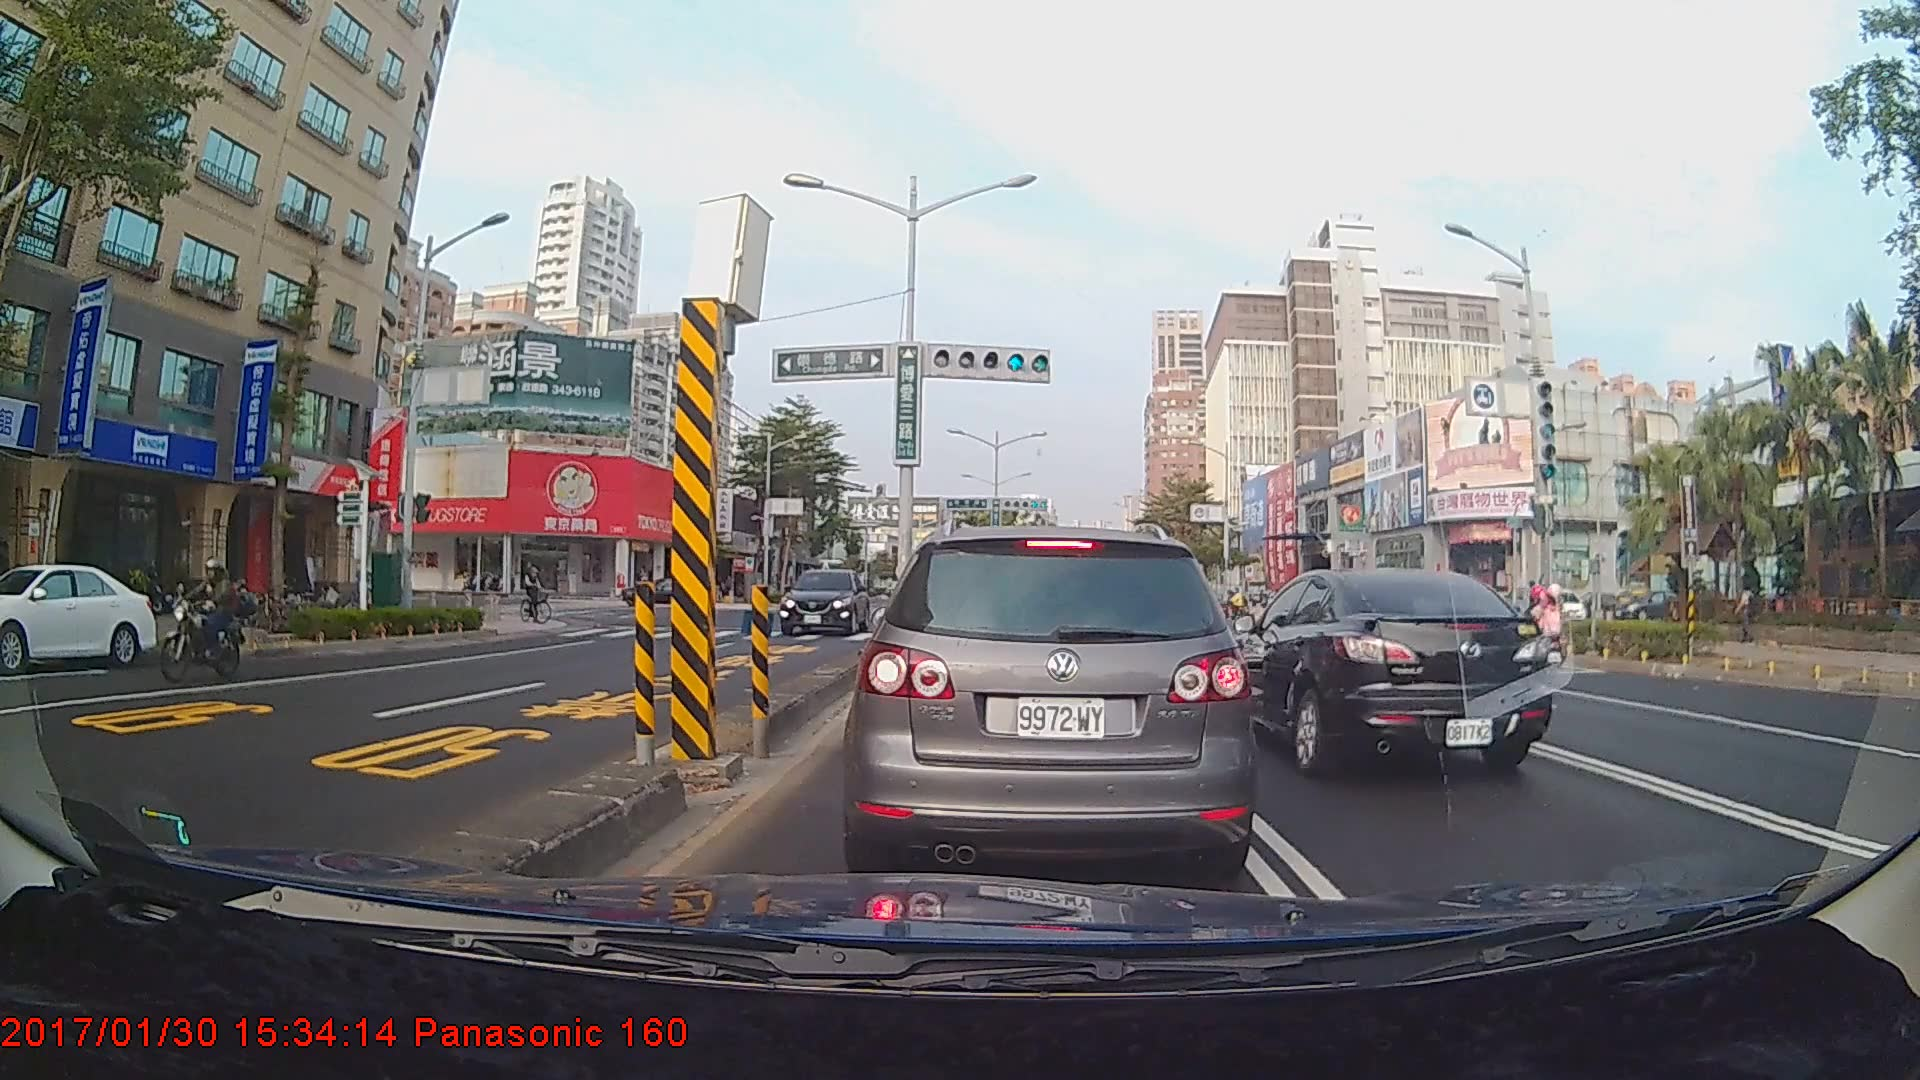pedestrian: (1735, 582, 1760, 646)
rider: (154, 550, 251, 685), (518, 559, 561, 629)
vehicle: (851, 520, 1247, 884), (1208, 564, 1556, 782), (0, 561, 160, 671), (777, 569, 871, 637), (618, 575, 720, 607)
